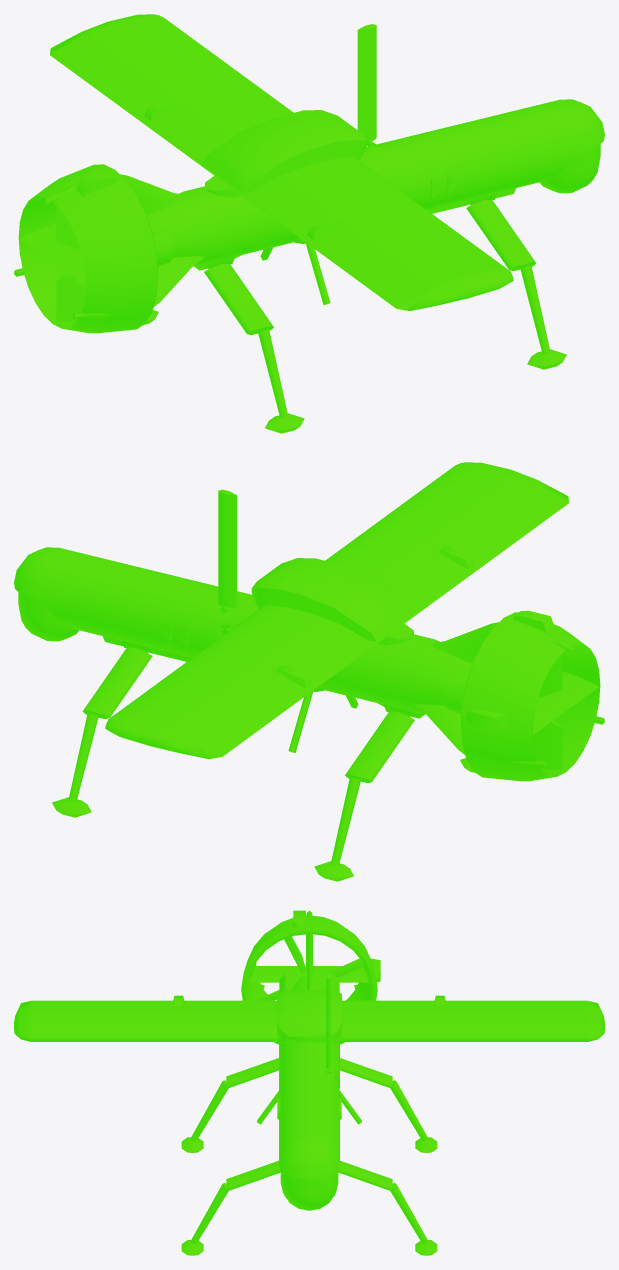
File: Pchela1T.gltf
3 renders of one model, top to bottom at view 1: azimuth 30°, elevation 25°; view 2: azimuth 150°, elevation 25°; view 3: azimuth 270°, elevation 25°, orthographic. The views are drawn at different scales.
Visible parts, largest first — view 1: Pchela_UAV_5; view 2: Pchela_UAV_5; view 3: Pchela_UAV_5.
Part boxes in pixels (x1,y1,x2,y2): Pchela_UAV_5: [14, 14, 604, 433]; Pchela_UAV_5: [14, 462, 604, 881]; Pchela_UAV_5: [14, 910, 604, 1255].
Size of the model in its own units: 3.8 by 1.97 by 4.37.
